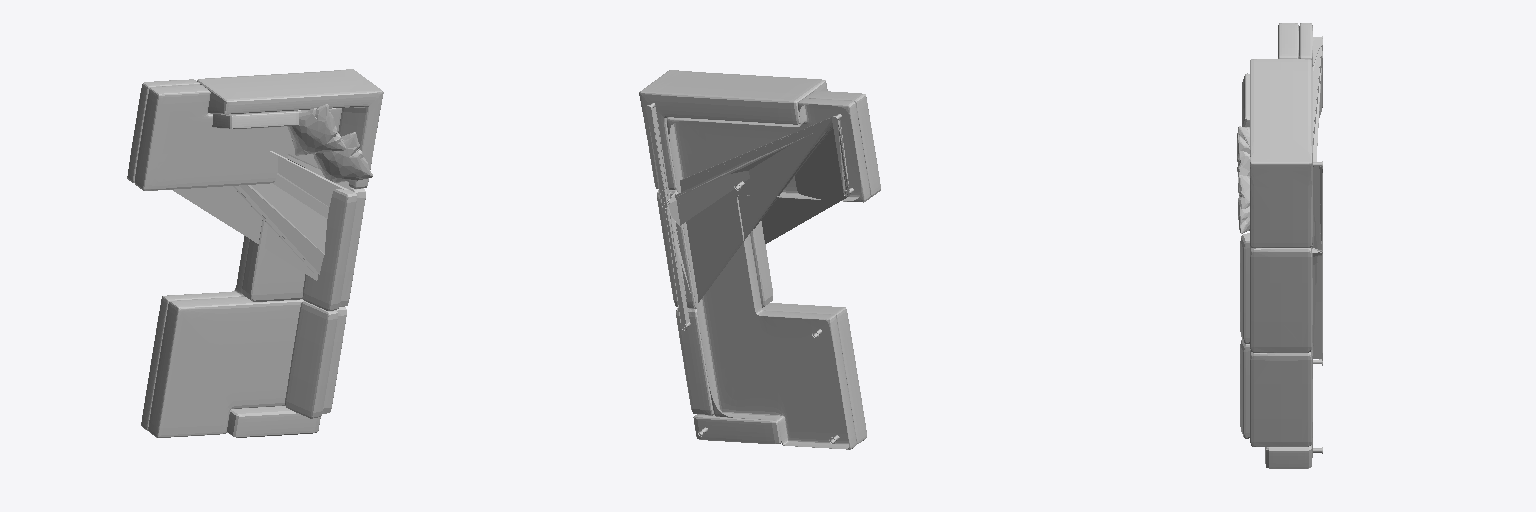
The model's file is Sofa malibu OBJ.obj.
3 views of the same model, side by side, from view 1: azimuth 30°, elevation 25°; view 2: azimuth 150°, elevation 25°; view 3: azimuth 270°, elevation 25° (orthographic).
Parts seen in each view (by area): view 1: Rectangle03, Plane01; view 2: Rectangle03, Plane01; view 3: Rectangle03, Plane01.
Part boxes in pixels (x1,y1,x2,y2): Rectangle03: (127, 69, 383, 437); Plane01: (173, 151, 362, 298); Rectangle03: (639, 70, 880, 449); Plane01: (645, 105, 849, 330); Rectangle03: (1237, 23, 1322, 468); Plane01: (1250, 39, 1322, 359).
Size of the model in its own units: 2474 by 3882 by 822.